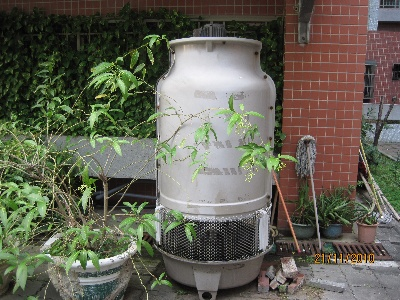water_tower: (153, 25, 277, 300)
